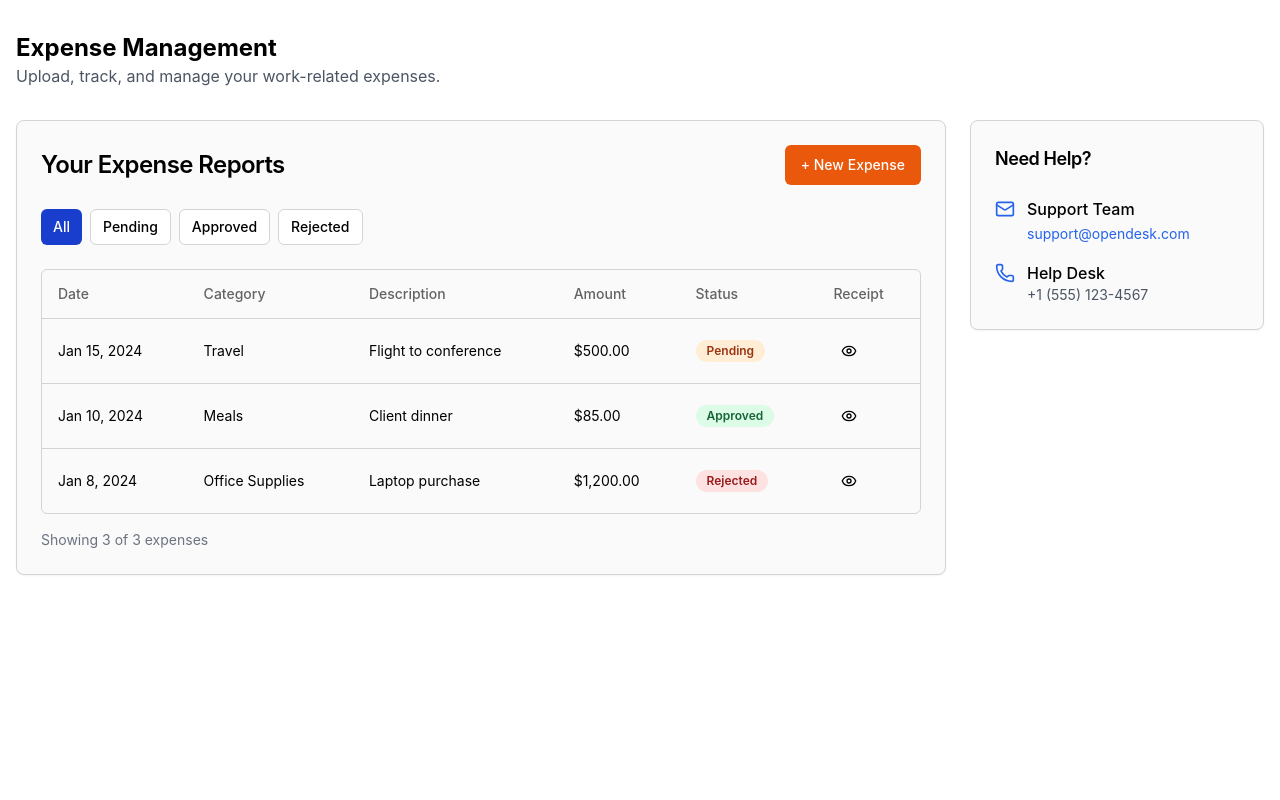
Test: ExpensesPage › filters expenses correctly when clicking filter buttons
Check: the text "Flight to conference" is shown, box 353,318 -> 558,383
// Click pending filter
Click the button "Pending" at coordinates (130, 227), box 90,209 -> 171,245
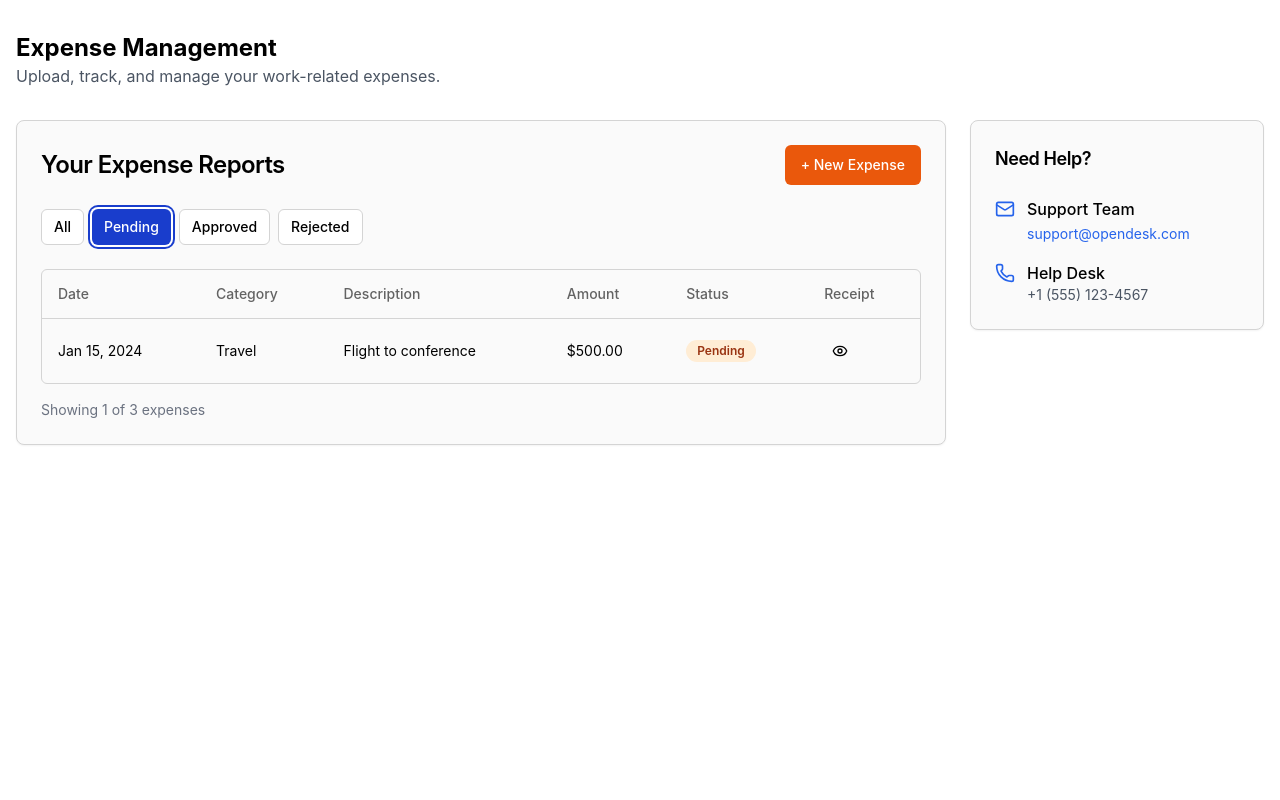
Check: the text "Flight to conference" is shown, box 328,318 -> 551,382
Check: the text "Client dinner" is gone
// Click approved filter
Click the button "Approved" at coordinates (224, 227), box 179,209 -> 270,245
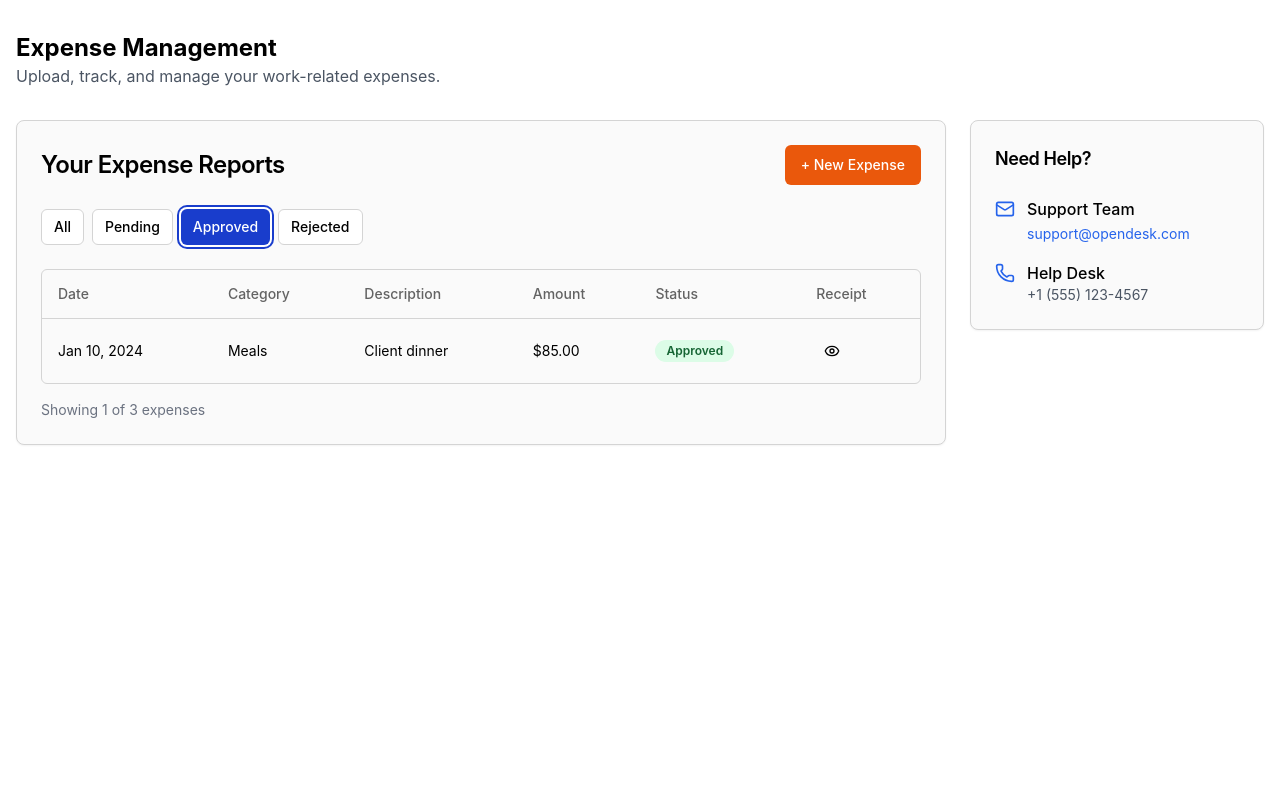
Check: the text "Flight to conference" is gone
Check: the text "Client dinner" is shown, box 348,318 -> 517,382
